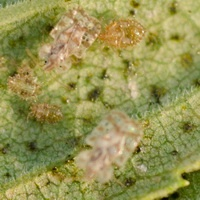insect: (39, 7, 145, 70), (74, 111, 142, 182), (39, 7, 100, 70)
